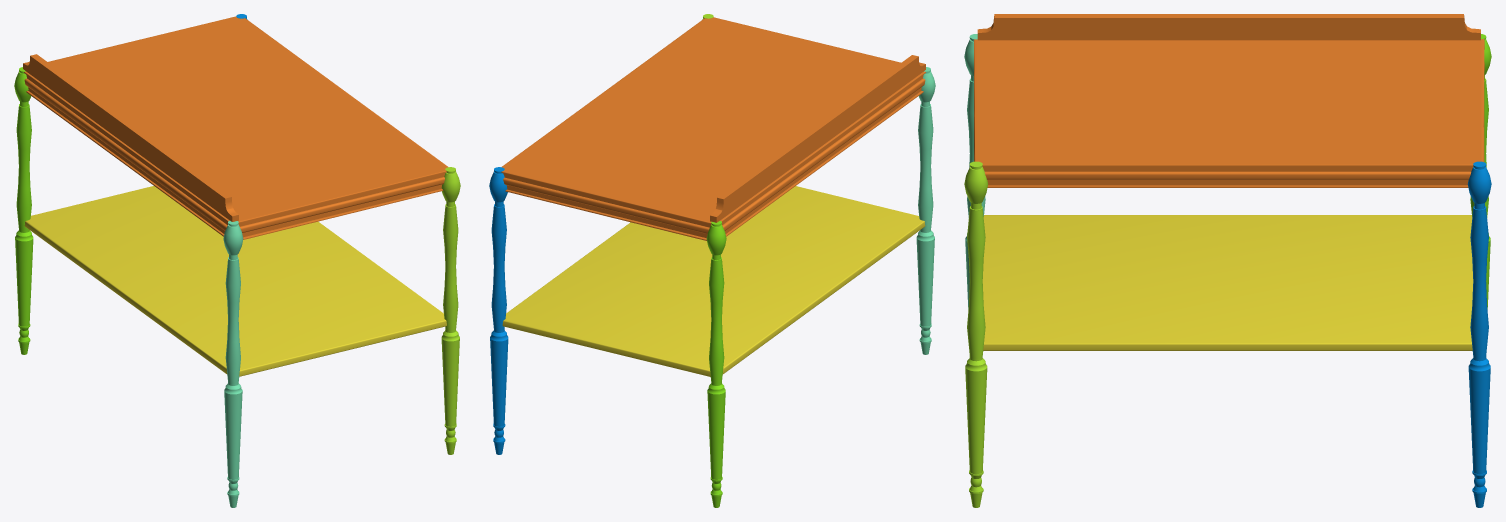
The model's file is Mesita_Comida.fbx.
3 renders of one model, left to right at view 1: azimuth 30°, elevation 25°; view 2: azimuth 150°, elevation 25°; view 3: azimuth 270°, elevation 25°, orthographic. The views are drawn at different scales.
Visible parts, largest first — view 1: Madera_1, Madera_2, Pata.003, Pata, Pata.002; view 2: Madera_1, Madera_2, Pata.002, Pata.001, Pata.003; view 3: Madera_1, Madera_2, Pata, Pata.001, Pata.003, Pata.002.
Boxes of the visible parts, x1=… form: Madera_1: x1=23, y1=16, x2=448, y2=239; Madera_2: x1=24, y1=186, x2=446, y2=376; Pata.003: x1=223, y1=221, x2=243, y2=507; Pata: x1=441, y1=167, x2=460, y2=454; Pata.002: x1=14, y1=67, x2=33, y2=354; Madera_1: x1=501, y1=17, x2=925, y2=240; Madera_2: x1=502, y1=186, x2=925, y2=376; Pata.002: x1=706, y1=221, x2=726, y2=507; Pata.001: x1=489, y1=167, x2=508, y2=454; Pata.003: x1=916, y1=67, x2=935, y2=354; Madera_1: x1=974, y1=14, x2=1484, y2=187; Madera_2: x1=982, y1=215, x2=1473, y2=350; Pata: x1=964, y1=161, x2=988, y2=507; Pata.001: x1=1467, y1=161, x2=1491, y2=507; Pata.003: x1=964, y1=34, x2=985, y2=309; Pata.002: x1=1470, y1=34, x2=1491, y2=309.
Size of the model in its own units: 64.77 by 79.87 by 105.
